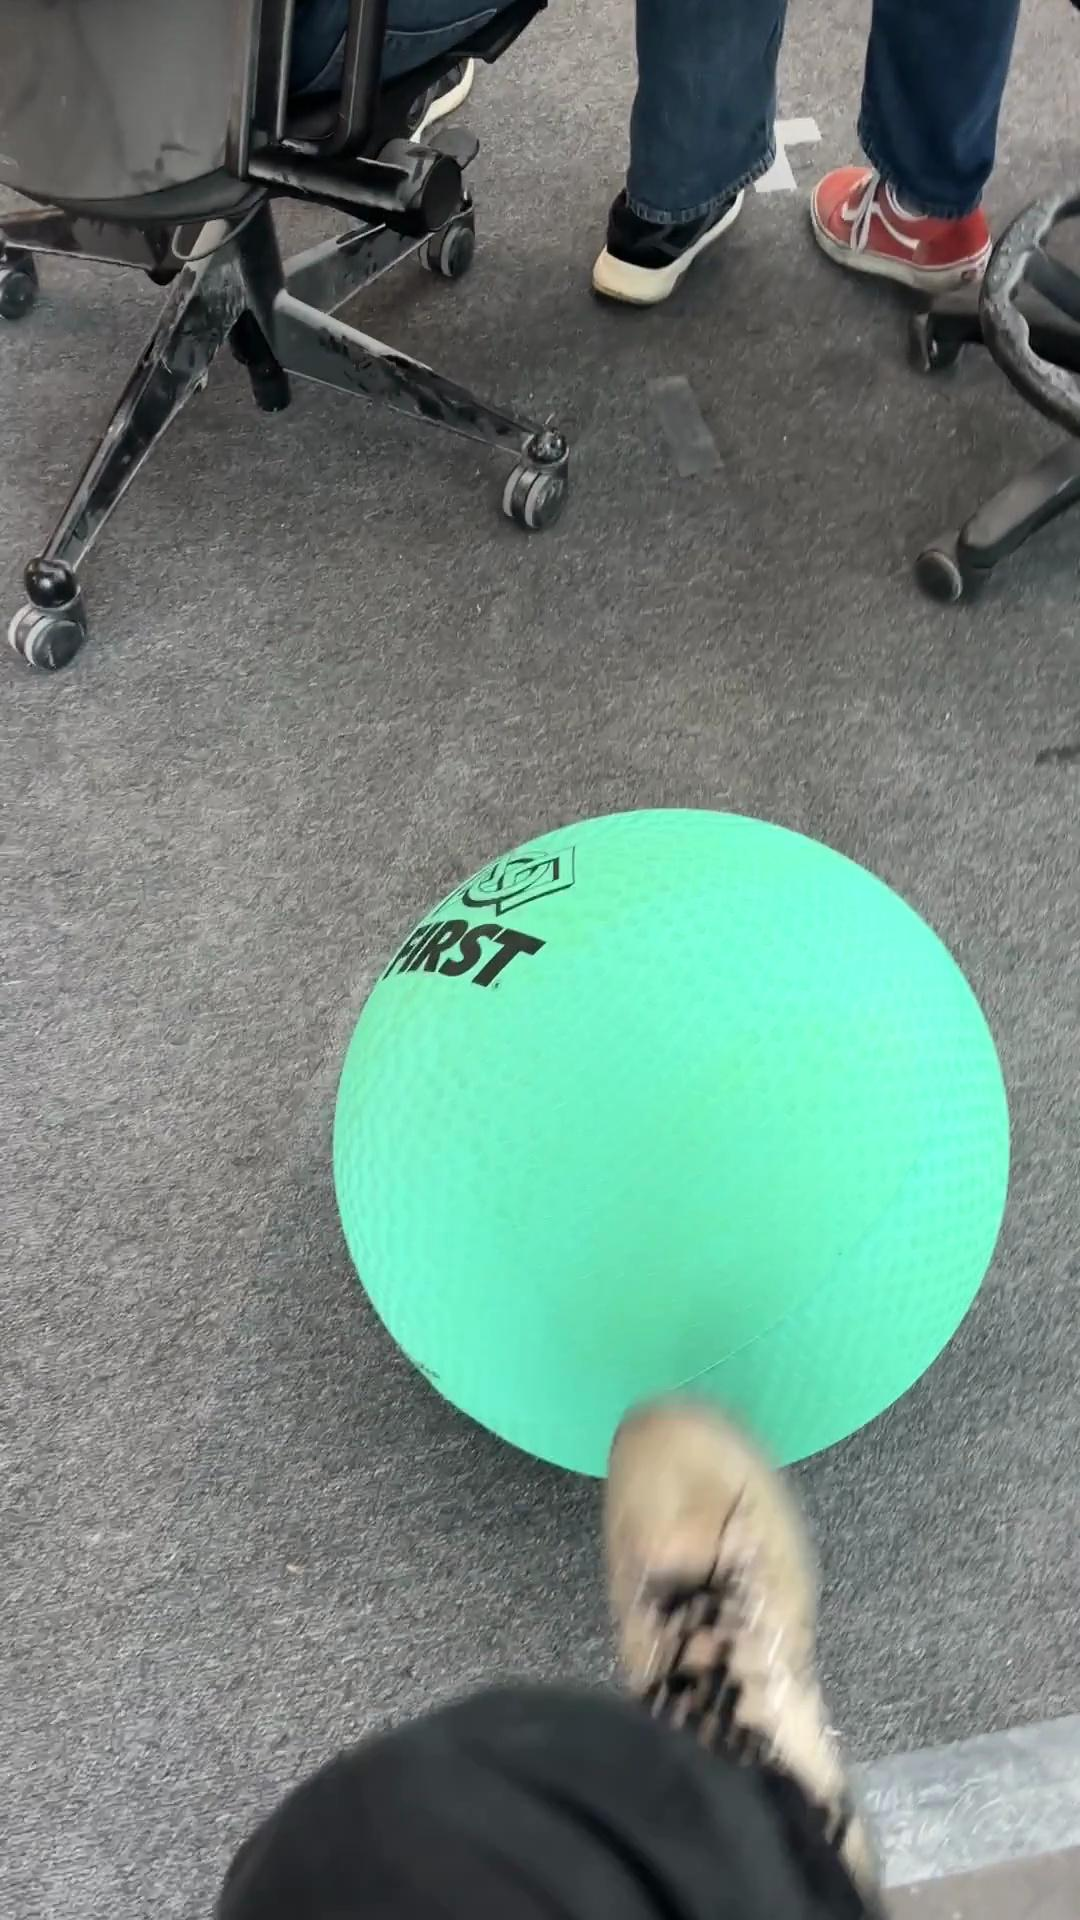ALGAE: (328, 803, 1014, 1482)
